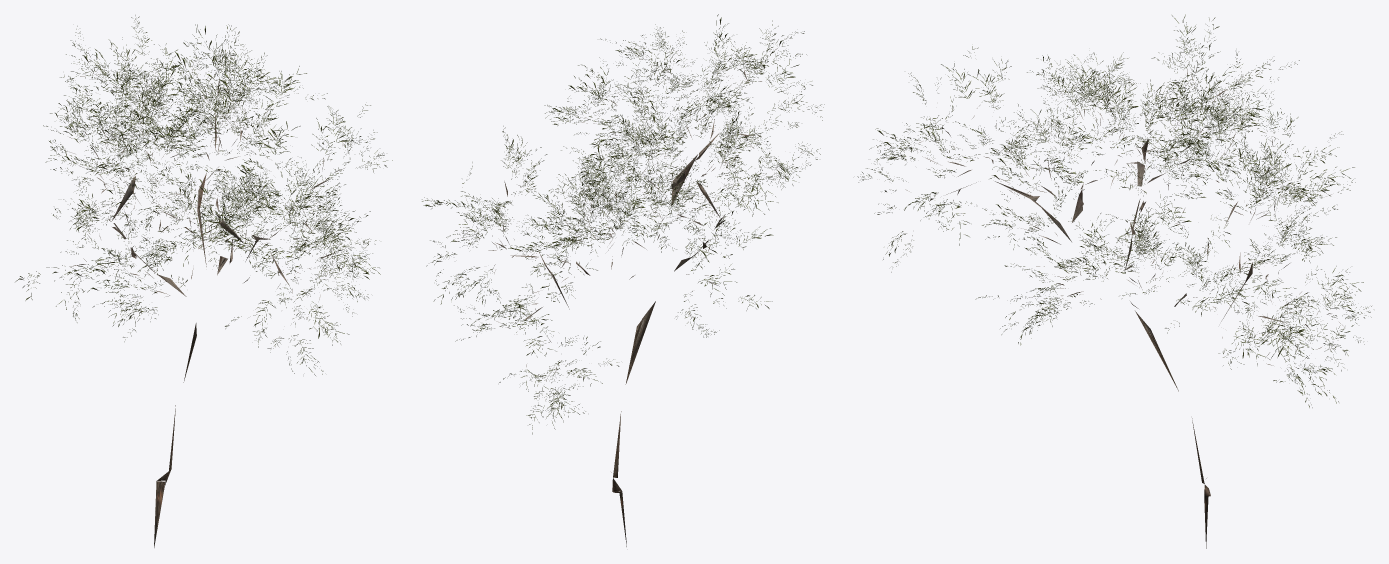
Rendered from tree_small_02.glb.
3 views of the same model, side by side, from view 1: azimuth 30°, elevation 25°; view 2: azimuth 150°, elevation 25°; view 3: azimuth 270°, elevation 25° (orthographic). The views are drawn at different scales.
Parts seen in each view (by area): view 1: tree_small_02_LOD0; view 2: tree_small_02_LOD0; view 3: tree_small_02_LOD0.
Boxes of the visible parts, x1,y1,x2,y2 form: tree_small_02_LOD0: [15, 15, 392, 547]; tree_small_02_LOD0: [422, 14, 824, 546]; tree_small_02_LOD0: [857, 14, 1371, 548].
Size of the model in its own units: 2.87 by 4.5 by 4.27.
3 materials, 3 textured.
